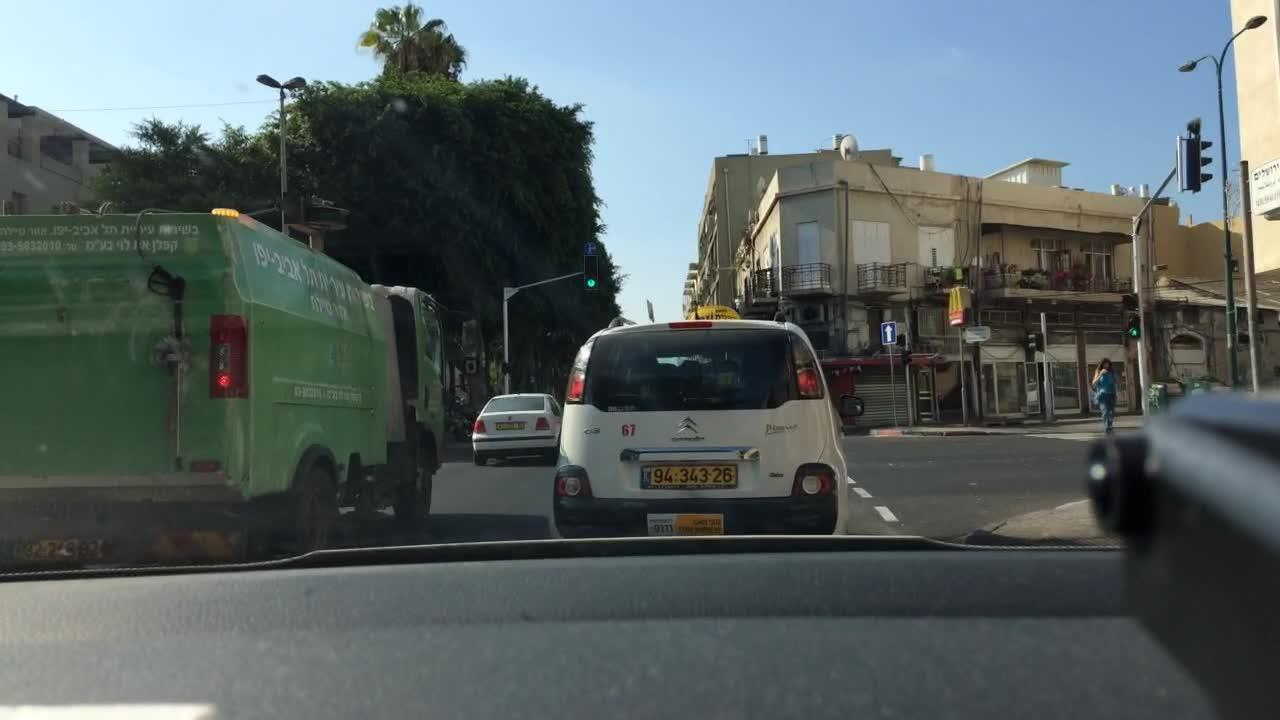Citroen: (669, 411, 706, 444)
